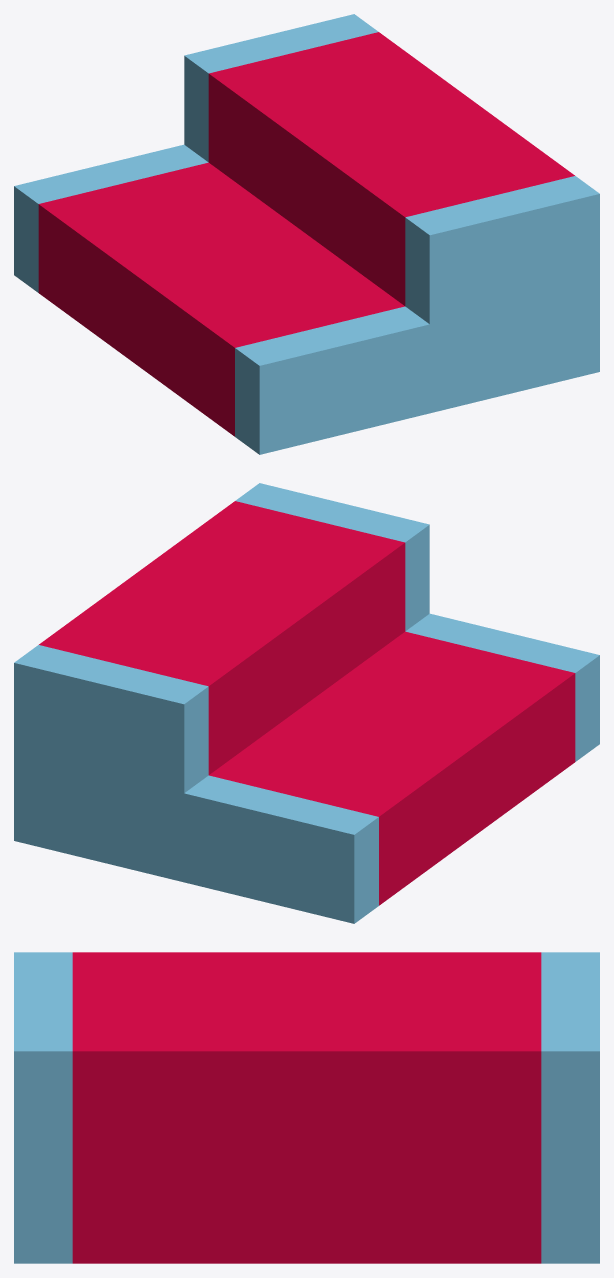
Rendered from 2 Stair.fbx.
3 renders of one model, top to bottom at view 1: azimuth 30°, elevation 25°; view 2: azimuth 150°, elevation 25°; view 3: azimuth 270°, elevation 25°, orthographic. The views are drawn at different scales.
Parts seen in each view (by area): view 1: 2 Stair; view 2: 2 Stair; view 3: 2 Stair.
Boxes of the visible parts, x1,y1,x2,y2 form: 2 Stair: (14, 14, 599, 454); 2 Stair: (14, 483, 599, 923); 2 Stair: (14, 952, 599, 1263).
Size of the model in its own units: 80 by 40 by 100.
